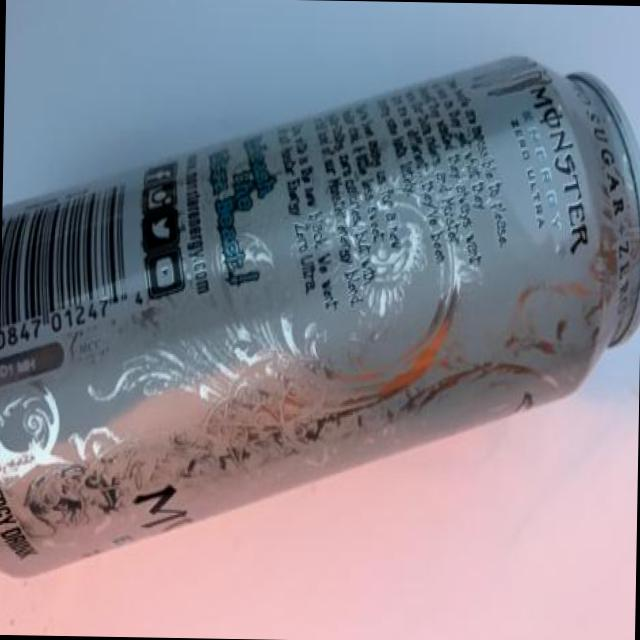kim_loai: (0, 58, 640, 577)
